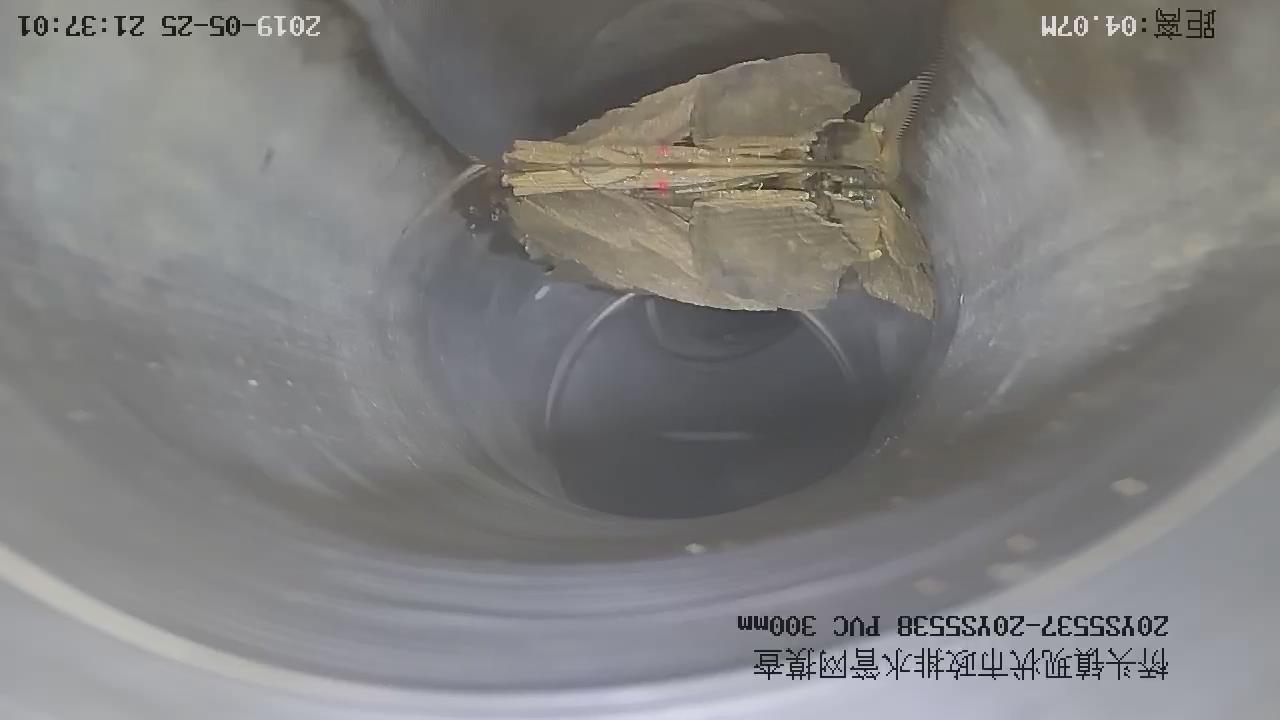ZAW: (498, 137, 936, 318)
